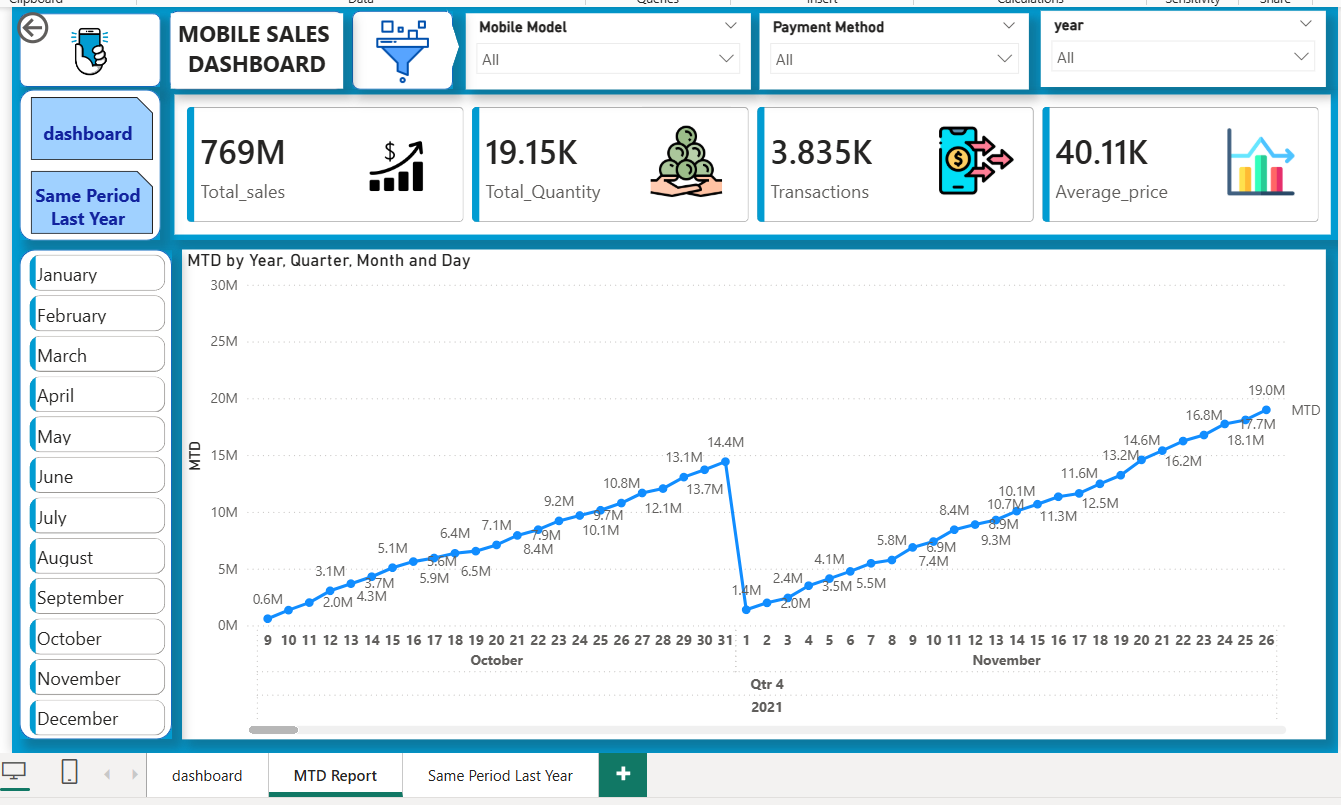

What the dashboard file says about the page in this screenshot:
{"tool":"powerbi","page":{"name":"MTD Report","canvas":[1280,720],"ordinal":1},"visuals":[{"type":"shape","box":[7.2,6,136.3,71.2],"z":0},{"type":"image","box":[16.9,12.1,119.4,61.5],"z":1000},{"type":"cardVisual","fields":{"Data":["Sales_Data.Total_sales","Sales_Data.Total_Quantity","Sales_Data.Transactions","Sales_Data.Average_price"]},"box":[152,79.6,1128,146],"z":2000},{"type":"image","box":[328.2,120.6,85.7,65.1],"z":3000},{"type":"image","box":[609.3,112.2,83.2,73.6],"z":4000},{"type":"image","box":[891.6,112.2,78.4,72.4],"z":5000},{"type":"image","box":[1169,117,72.4,65.1],"z":6000},{"type":"slicer","fields":{"Values":["Sales_Data.Mobile Model"]},"box":[437.5,6.2,275,73.8],"z":7000},{"type":"slicer","fields":{"Values":["Sales_Data.Payment Method"]},"box":[721.2,6.2,260,73.8],"z":8000},{"type":"slicer","fields":{"Values":["Custom_Calendar.Date.Variation.Date Hierarchy.Year","Custom_Calendar.Date.Variation.Date Hierarchy.Quarter","Custom_Calendar.Date.Variation.Date Hierarchy.Month","Custom_Calendar.Date.Variation.Date Hierarchy.Day"]},"box":[992.5,3.8,275,73.8],"z":9000},{"type":"shape","box":[328.8,3.8,97.5,76.2],"z":10000},{"type":"image","box":[340,12.5,73.8,62.5],"z":11000},{"type":"shape","box":[407.5,1.2,23.8,73.8],"z":12000},{"type":"shape","box":[152.5,3.8,167.5,76.2],"z":13000},{"type":"textbox","box":[153.8,6.2,166.2,72.5],"z":14000},{"type":"shape","box":[7.2,79.6,136.3,146],"z":15000},{"type":"actionButton","box":[0,0,100,40],"z":16000},{"type":"lineChart","fields":{"Y":["Sales_Data.MTD"],"Category":["Custom_Calendar.Date.Variation.Date Hierarchy.Year","Custom_Calendar.Date.Variation.Date Hierarchy.Quarter","Custom_Calendar.Date.Variation.Date Hierarchy.Month","Custom_Calendar.Date.Variation.Date Hierarchy.Day"]},"box":[164.1,234,1103.9,472.9],"z":17000},{"type":"shape","box":[7.2,234,147.2,472.9],"z":18000},{"type":"pageNavigator","box":[18.1,86.9,118.2,133.9],"z":19000},{"type":"advancedSlicerVisual","fields":{"Values":["Custom_Calendar.Date.Variation.Date Hierarchy.Month"]},"box":[12.1,234,141.2,480.2],"z":20000}]}

Visuals, with their boxes on the page's 1280x720 design canvas (x1, y1, x2, y2). These are canvas units, not pixel positions in the 1341x805 screenshot, which may show the page scaled, cropped or inside an application window:
shape: {"left": 7, "top": 6, "right": 144, "bottom": 77}
image: {"left": 17, "top": 12, "right": 136, "bottom": 74}
cardVisual - Sales_Data.Total_sales x Sales_Data.Total_Quantity: {"left": 152, "top": 80, "right": 1280, "bottom": 226}
image: {"left": 328, "top": 121, "right": 414, "bottom": 186}
image: {"left": 609, "top": 112, "right": 692, "bottom": 186}
image: {"left": 892, "top": 112, "right": 970, "bottom": 185}
image: {"left": 1169, "top": 117, "right": 1241, "bottom": 182}
slicer - Sales_Data.Mobile Model: {"left": 438, "top": 6, "right": 712, "bottom": 80}
slicer - Sales_Data.Payment Method: {"left": 721, "top": 6, "right": 981, "bottom": 80}
slicer - Custom_Calendar.Date.Variation.Date Hierarchy.Year x Custom_Calendar.Date.Variation.Date Hierarchy.Quarter: {"left": 992, "top": 4, "right": 1268, "bottom": 78}
shape: {"left": 329, "top": 4, "right": 426, "bottom": 80}
image: {"left": 340, "top": 12, "right": 414, "bottom": 75}
shape: {"left": 408, "top": 1, "right": 431, "bottom": 75}
shape: {"left": 152, "top": 4, "right": 320, "bottom": 80}
textbox: {"left": 154, "top": 6, "right": 320, "bottom": 79}
shape: {"left": 7, "top": 80, "right": 144, "bottom": 226}
actionButton: {"left": 0, "top": 0, "right": 100, "bottom": 40}
lineChart - Sales_Data.MTD x Custom_Calendar.Date.Variation.Date Hierarchy.Year: {"left": 164, "top": 234, "right": 1268, "bottom": 707}
shape: {"left": 7, "top": 234, "right": 154, "bottom": 707}
pageNavigator: {"left": 18, "top": 87, "right": 136, "bottom": 221}
advancedSlicerVisual - Custom_Calendar.Date.Variation.Date Hierarchy.Month: {"left": 12, "top": 234, "right": 153, "bottom": 714}
